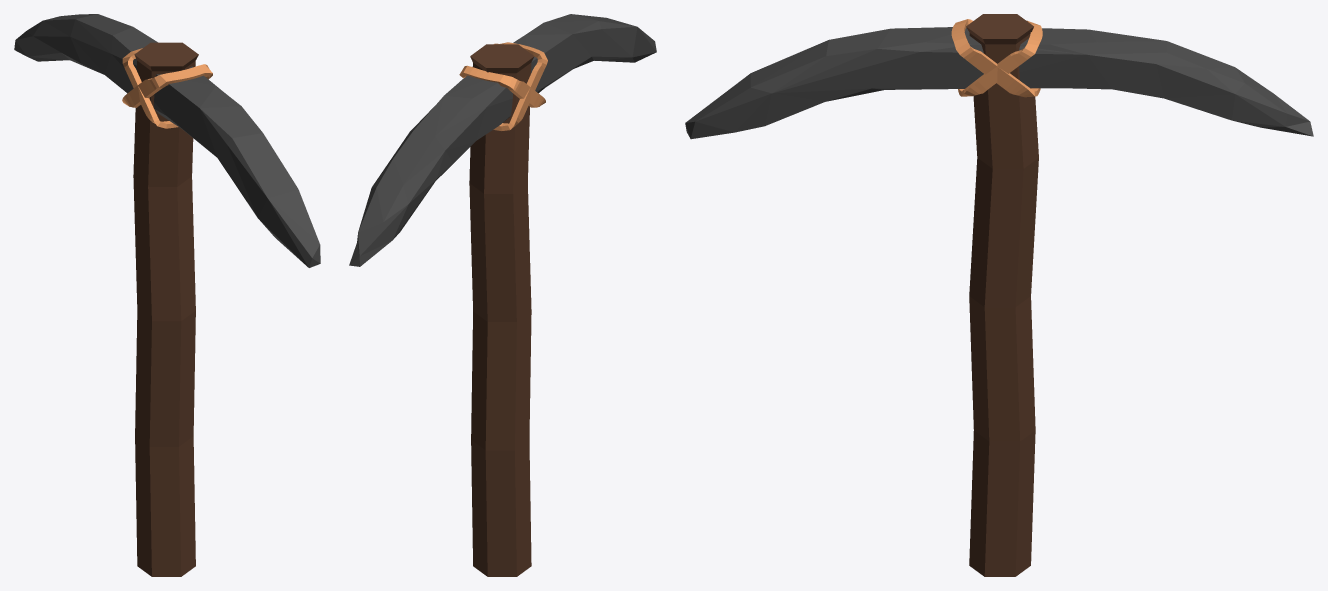
The model's file is stone_pickaxe.glb.
3 views of the same model, side by side, from view 1: azimuth 30°, elevation 25°; view 2: azimuth 150°, elevation 25°; view 3: azimuth 270°, elevation 25° (orthographic). The views are drawn at different scales.
Parts seen in each view (by area): view 1: pickaxe; view 2: pickaxe; view 3: pickaxe.
Boxes of the visible parts, bbox=[...] form: pickaxe: bbox=[14, 14, 320, 576]; pickaxe: bbox=[349, 14, 656, 576]; pickaxe: bbox=[685, 14, 1313, 576].
Bounding box in the file's own units: 0.0893 × 0.758 × 0.8009.
